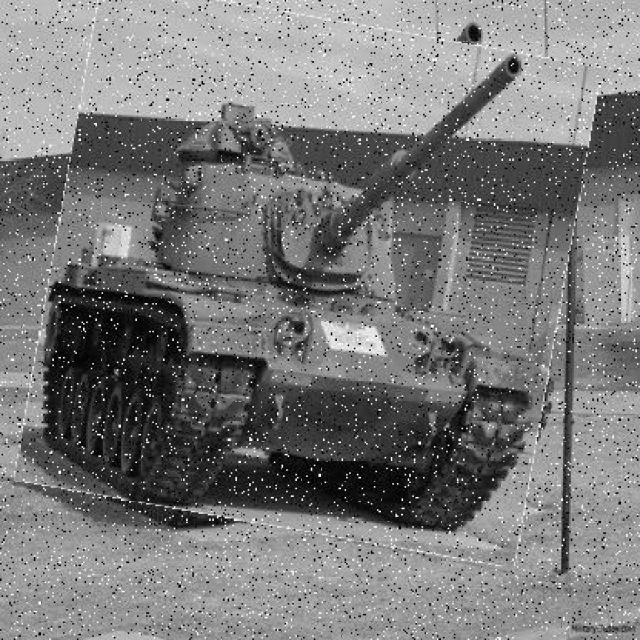Tank: (35, 1, 582, 549)
